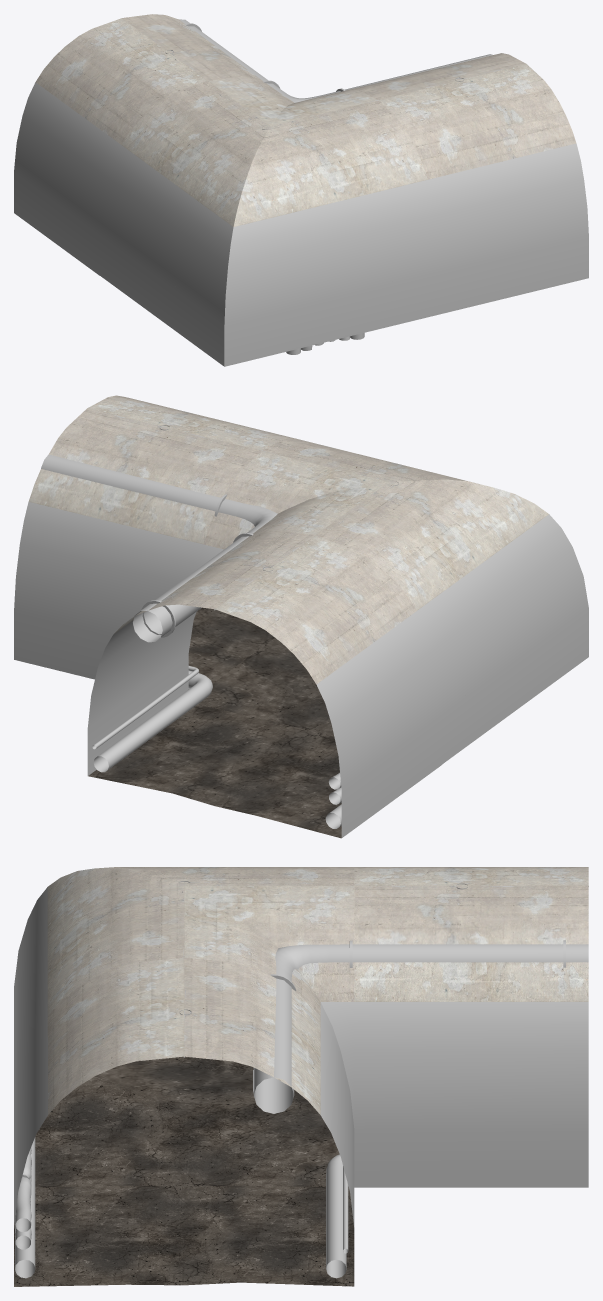
Rendered from Corridor_wall_con_L.FBX.
The picture shows the model from 3 angles, top to bottom: view 1: azimuth 30°, elevation 25°; view 2: azimuth 150°, elevation 25°; view 3: azimuth 270°, elevation 25°; orthographic projection. The views are drawn at different scales.
Parts seen in each view (by area): view 1: Corridor_wall_con_L, Tube_big_004; view 2: Corridor_wall_con_L, Corridor_floor_con_L, Tube_big_004, Tube014, Tube_paint009; view 3: Corridor_wall_con_L, Corridor_floor_con_L, Tube_big_004, Tube014, Tube_warm009, Tube015.
Part boxes in pixels (x1,y1,x2,y2): Corridor_wall_con_L: (14, 14, 588, 366); Tube_big_004: (179, 19, 492, 102); Corridor_wall_con_L: (14, 395, 588, 837); Corridor_floor_con_L: (88, 607, 341, 838); Tube_big_004: (41, 454, 277, 642); Tube014: (93, 670, 212, 772); Tube_paint009: (92, 666, 198, 749); Corridor_wall_con_L: (14, 867, 588, 1227); Corridor_floor_con_L: (14, 1056, 354, 1286); Tube_big_004: (253, 940, 588, 1113); Tube014: (326, 1154, 346, 1278); Tube_warm009: (15, 1147, 31, 1249); Tube015: (15, 1137, 35, 1278).
Size of the model in its own units: 845 by 387 by 845.
